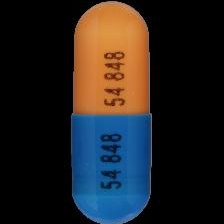69189-0164: (0, 0, 224, 224)
